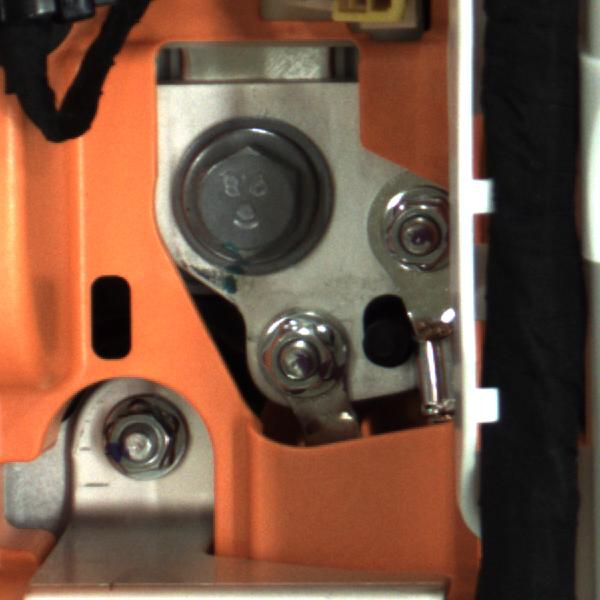nut_b: (153, 110, 349, 279)
screw_s: (91, 394, 201, 490), (250, 310, 358, 401), (371, 190, 450, 265)
